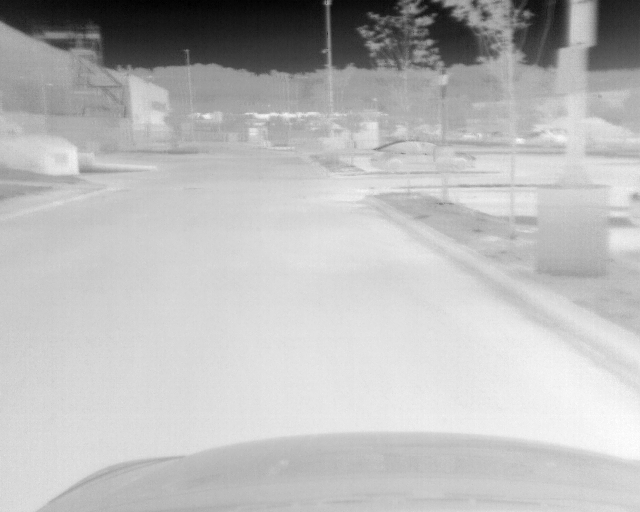car: (370, 137, 474, 175), (520, 125, 569, 145)
